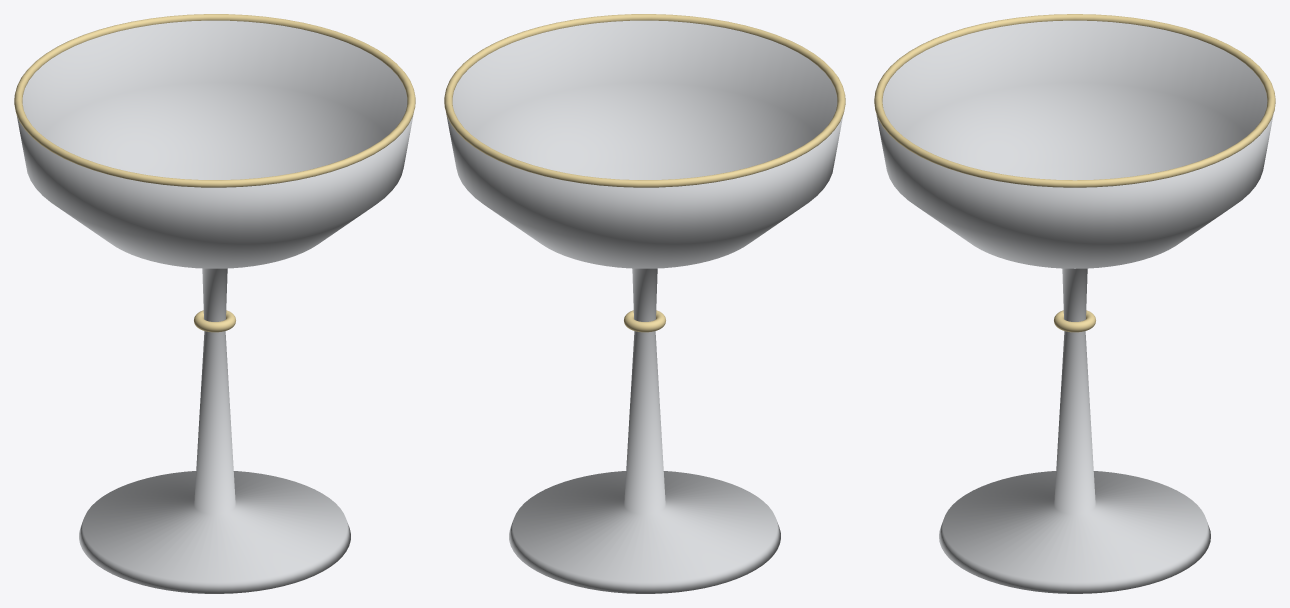
The model's file is Copa.glb.
The picture shows the model from 3 angles, left to right: view 1: azimuth 30°, elevation 25°; view 2: azimuth 150°, elevation 25°; view 3: azimuth 270°, elevation 25°; orthographic projection.
Parts seen in each view (by area): view 1: Copa_Brindis_Editorial; view 2: Copa_Brindis_Editorial; view 3: Copa_Brindis_Editorial.
Part boxes in pixels (left/top/right/bottom): Copa_Brindis_Editorial: left=14, top=14, right=415, bottom=593; Copa_Brindis_Editorial: left=444, top=14, right=845, bottom=593; Copa_Brindis_Editorial: left=874, top=14, right=1275, bottom=593.
Size of the model in its own units: 1.06 by 1.28 by 1.06.
